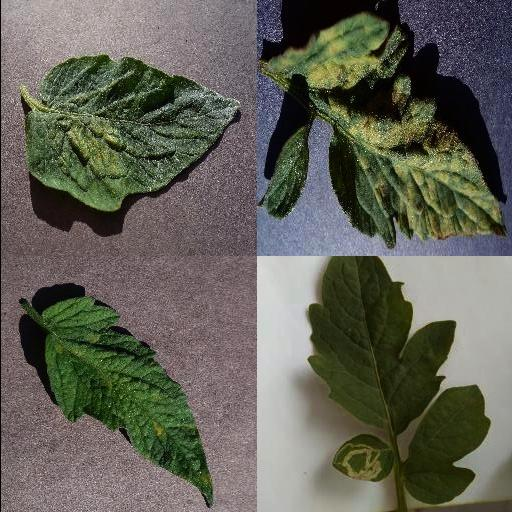Healthy: (305, 256, 456, 436), (401, 386, 491, 506)
Leaf Miner: (330, 433, 392, 483)
Leaf Mold: (256, 12, 507, 248), (42, 296, 214, 508)
Spider Mites: (25, 56, 241, 212)
